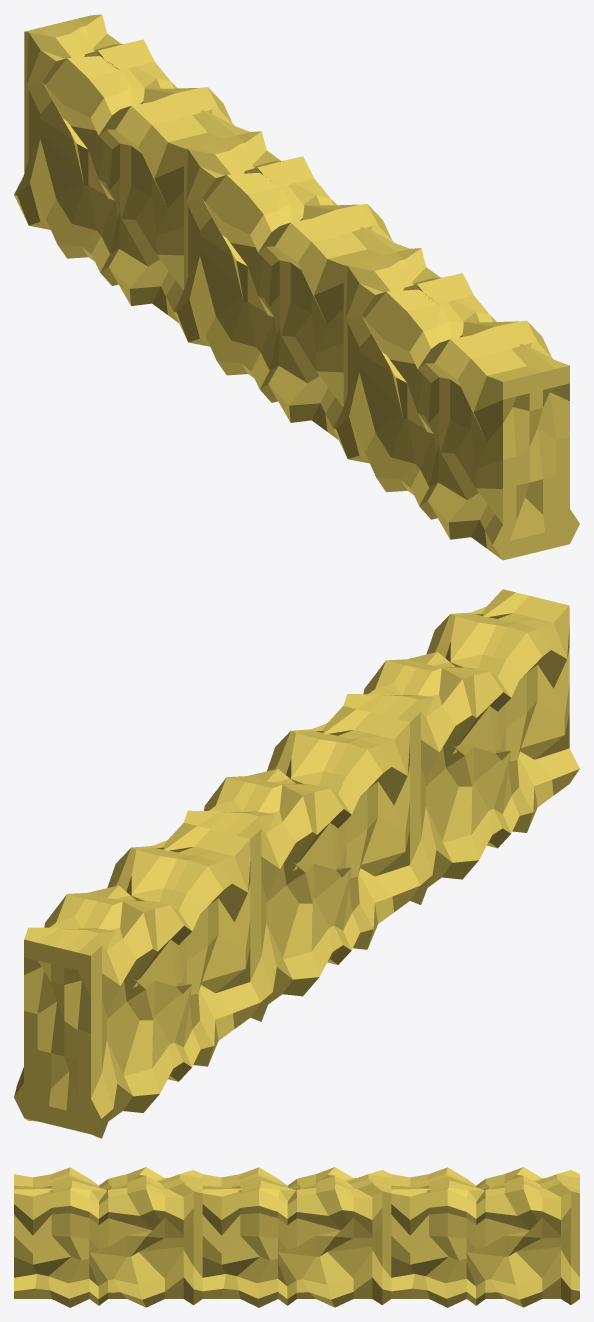
File: Parede_tipo_4.fbx
3 views of the same model, one above another, from view 1: azimuth 30°, elevation 25°; view 2: azimuth 150°, elevation 25°; view 3: azimuth 270°, elevation 25° (orthographic). The views are drawn at different scales.
Parts seen in each view (by area): view 1: Parede tipo 4; view 2: Parede tipo 4; view 3: Parede tipo 4.
Boxes of the visible parts, x1,y1,x2,y2 form: Parede tipo 4: (14, 14, 579, 560); Parede tipo 4: (14, 589, 579, 1138); Parede tipo 4: (14, 1167, 579, 1307).
Bounding box in the file's own units: 127 × 225 × 972.
